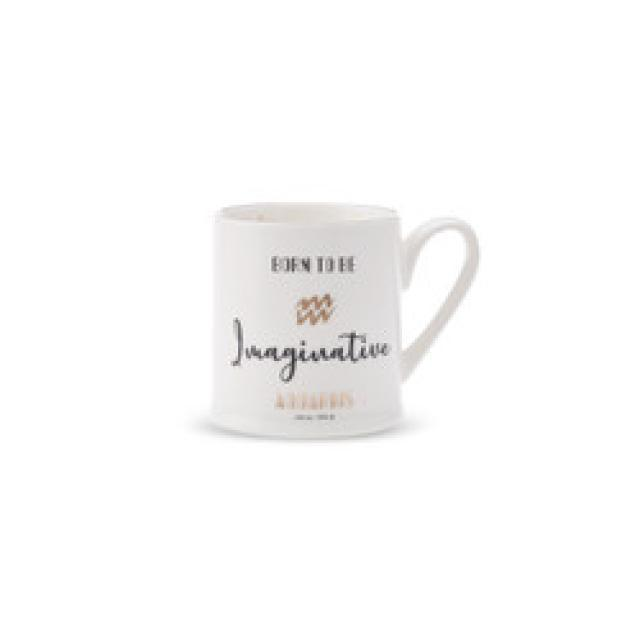Coffee Mug: (208, 200, 482, 443)
